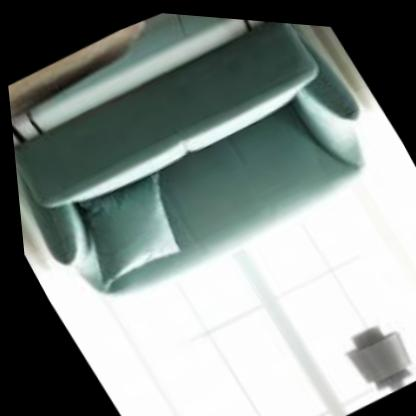Sofa: (0, 0, 416, 364)
